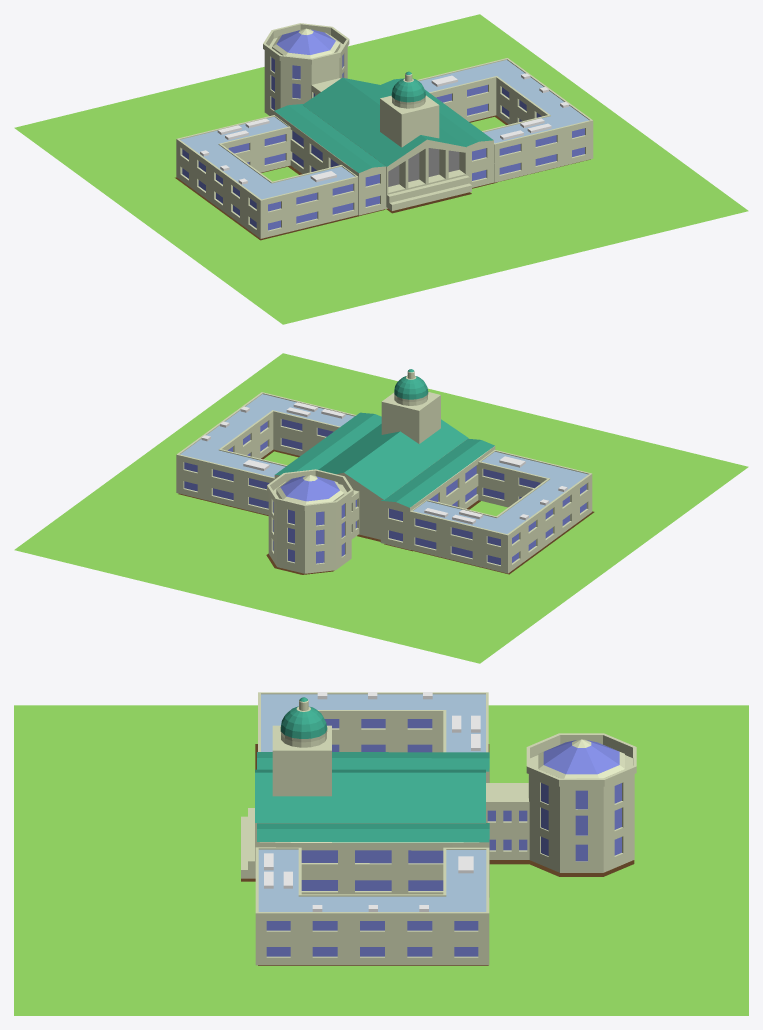
File: City Hall.fbx
3 views of the same model, one above another, from view 1: azimuth 30°, elevation 25°; view 2: azimuth 150°, elevation 25°; view 3: azimuth 270°, elevation 25° (orthographic). The views are drawn at different scales.
Parts seen in each view (by area): view 1: Floor, MainPart, wing_2_2, wing_1_2, Back, wing_2_1, wing_1_1, Floor.001; view 2: Floor, MainPart, wing_2_2, Back, wing_1_2, wing_2_1, wing_1_1, Floor.001; view 3: Floor, MainPart, Back, wing_1_2, wing_2_2, wing_1_1, wing_2_1, Floor.001.
Boxes of the visible parts, x1=… form: Floor: x1=14, y1=14, x2=748, y2=324; MainPart: x1=274, y1=71, x2=493, y2=215; wing_2_2: x1=176, y1=115, x2=358, y2=219; wing_1_2: x1=417, y1=58, x2=593, y2=163; Back: x1=263, y1=23, x2=349, y2=115; wing_2_1: x1=176, y1=146, x2=358, y2=238; wing_1_1: x1=450, y1=96, x2=593, y2=182; Floor.001: x1=175, y1=115, x2=590, y2=240; Floor: x1=14, y1=353, x2=748, y2=663; MainPart: x1=274, y1=369, x2=495, y2=549; wing_2_2: x1=410, y1=450, x2=592, y2=554; Back: x1=267, y1=469, x2=359, y2=573; wing_1_2: x1=176, y1=392, x2=356, y2=495; wing_2_1: x1=410, y1=481, x2=592, y2=573; wing_1_1: x1=176, y1=430, x2=319, y2=515; Floor.001: x1=178, y1=449, x2=594, y2=574; Floor: x1=14, y1=705, x2=748, y2=1015; MainPart: x1=241, y1=697, x2=489, y2=897; Back: x1=486, y1=733, x2=636, y2=872; wing_1_2: x1=255, y1=847, x2=489, y2=939; wing_2_2: x1=258, y1=692, x2=488, y2=752; wing_1_1: x1=255, y1=939, x2=489, y2=965; wing_2_1: x1=332, y1=737, x2=443, y2=752; Floor.001: x1=241, y1=744, x2=634, y2=965.
Bounding box in the file's own units: 752 × 183 × 752.
